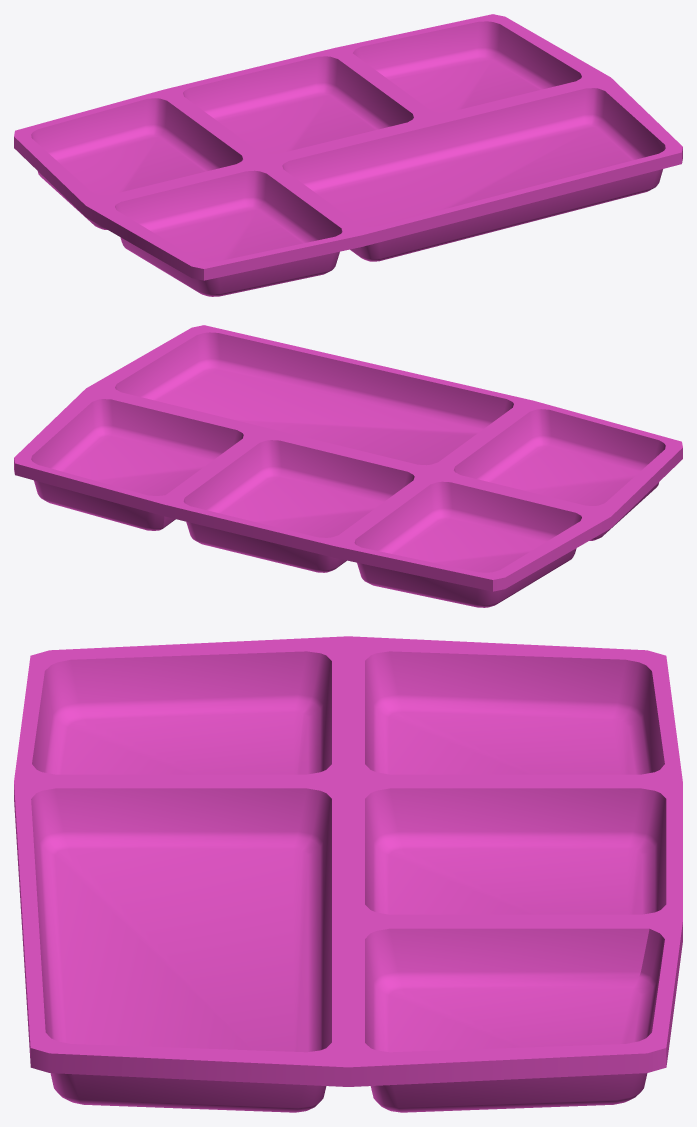
File: SM_FoodTray_mesh_lod0.fbx
3 views of the same model, one above another, from view 1: azimuth 30°, elevation 25°; view 2: azimuth 150°, elevation 25°; view 3: azimuth 270°, elevation 25° (orthographic). The views are drawn at different scales.
Parts seen in each view (by area): view 1: A Food tray high poly; view 2: A Food tray high poly; view 3: A Food tray high poly.
Part boxes in pixels (x1,y1,x2,y2): A Food tray high poly: [14, 14, 682, 296]; A Food tray high poly: [14, 325, 682, 607]; A Food tray high poly: [14, 636, 682, 1112].
Bounding box in the file's own units: 55.64 × 4.21 × 36.48.
